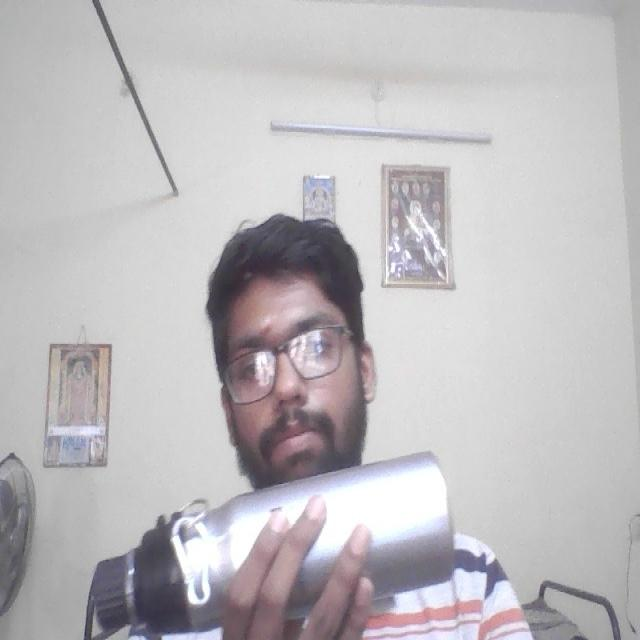Drinking: (88, 445, 470, 631)
